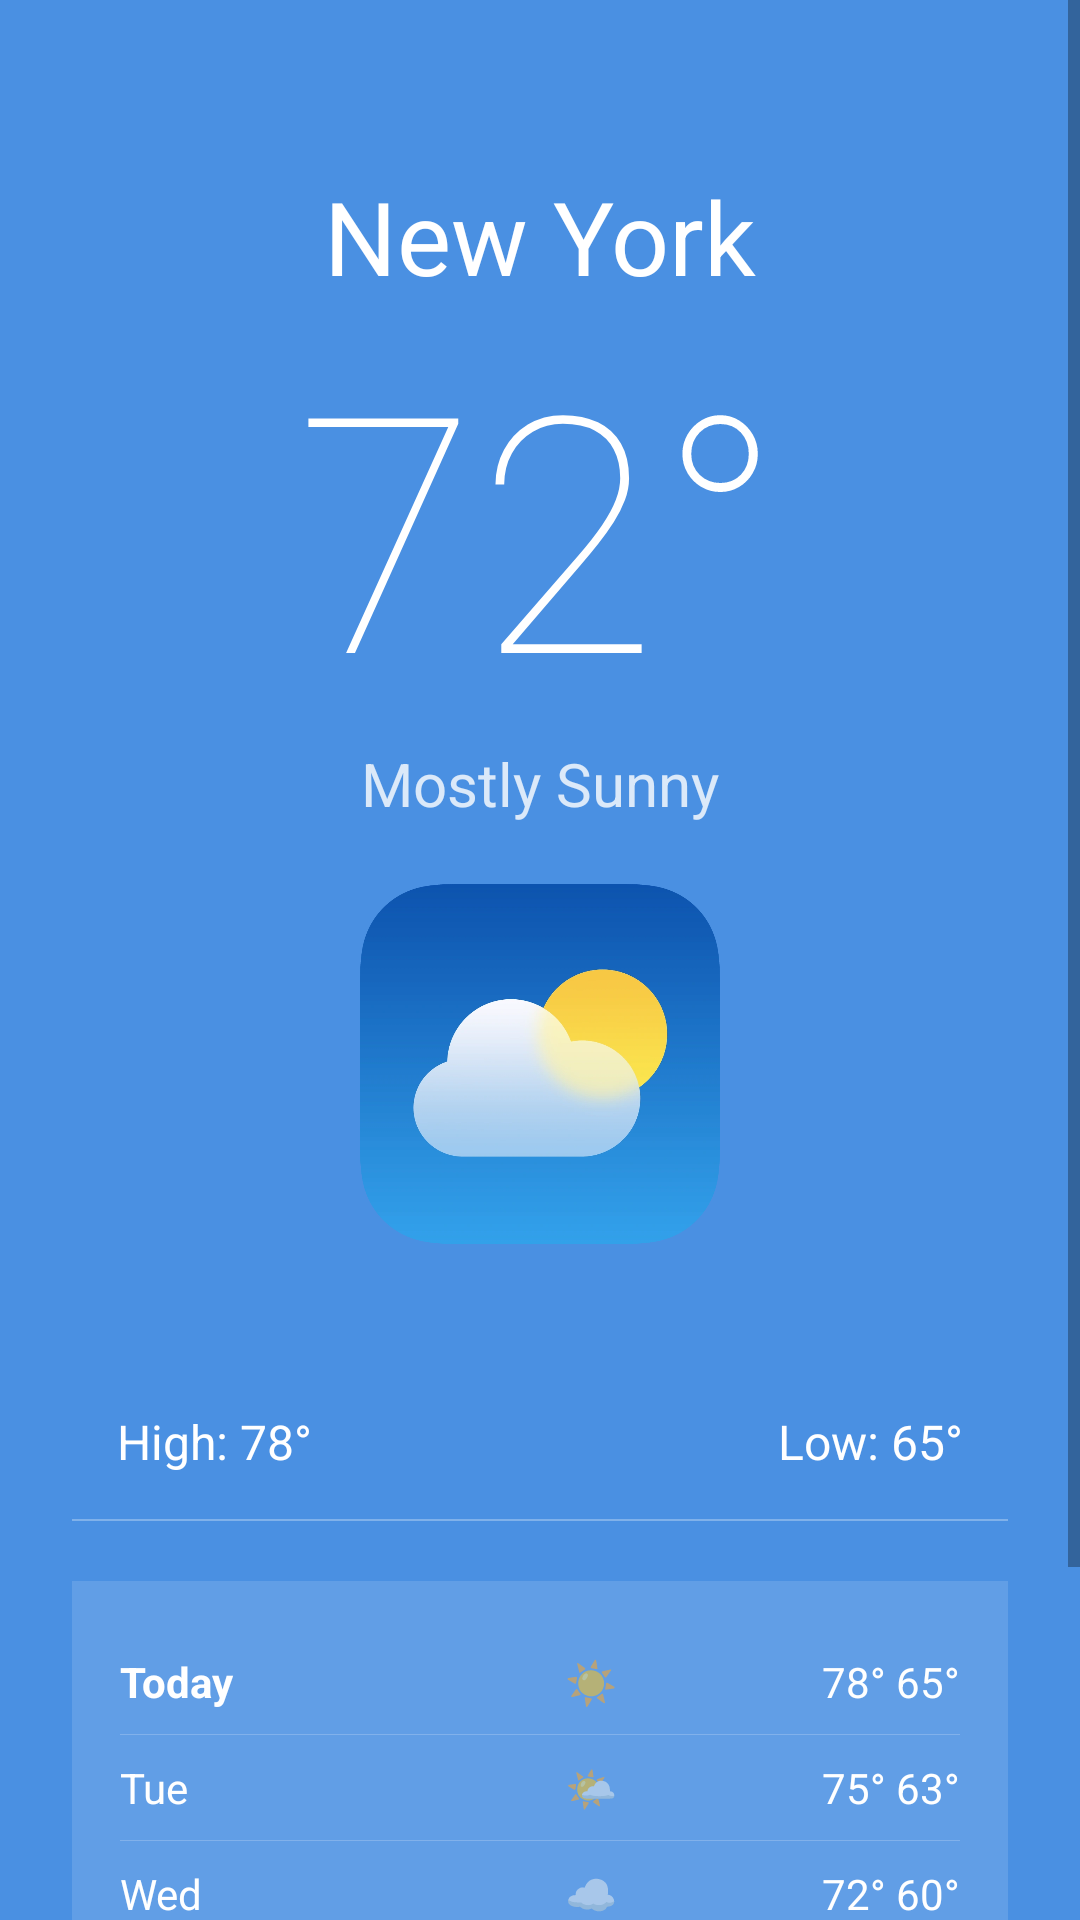

Icon click points for this 1080px x 1920px phone screenshot, format (x,y):
weather: (540,1064)
